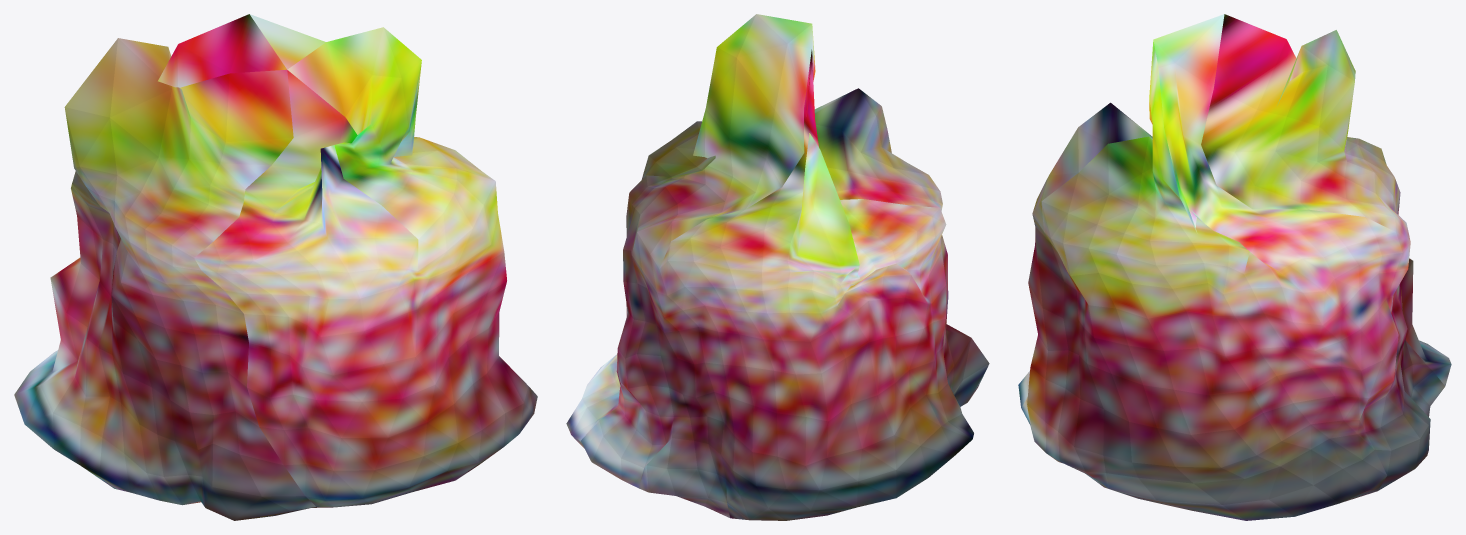
Rendered from delicious_fruit_tart_cake.gltf.
3 renders of one model, left to right at view 1: azimuth 30°, elevation 25°; view 2: azimuth 150°, elevation 25°; view 3: azimuth 270°, elevation 25°, orthographic. The views are drawn at different scales.
Visible parts, largest first — view 1: pMesh1; view 2: pMesh1; view 3: pMesh1.
Part boxes in pixels (x1,y1,x2,y2): pMesh1: (14, 14, 537, 520); pMesh1: (566, 14, 989, 520); pMesh1: (1018, 14, 1451, 520).
Size of the model in its own units: 2.37 by 2.54 by 2.39.
Materials: 1 (1 with a texture image).
